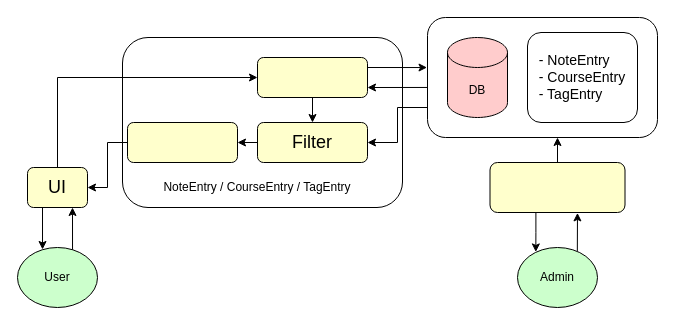
Image size: 675x325. Some labels were removed from this diagram. Here are the shapes that lost their labels. From the top down, the centre of each, then its label:
At pixel 312 77: "Access".
At pixel 182 142: "Visualize".
At pixel 557 187: "Django Admin".
